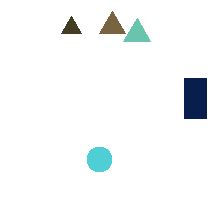circle: (87, 147, 111, 171)
rectangle: (184, 78, 206, 118)
triangle: (123, 18, 150, 41), (99, 11, 125, 33), (61, 16, 81, 33)
